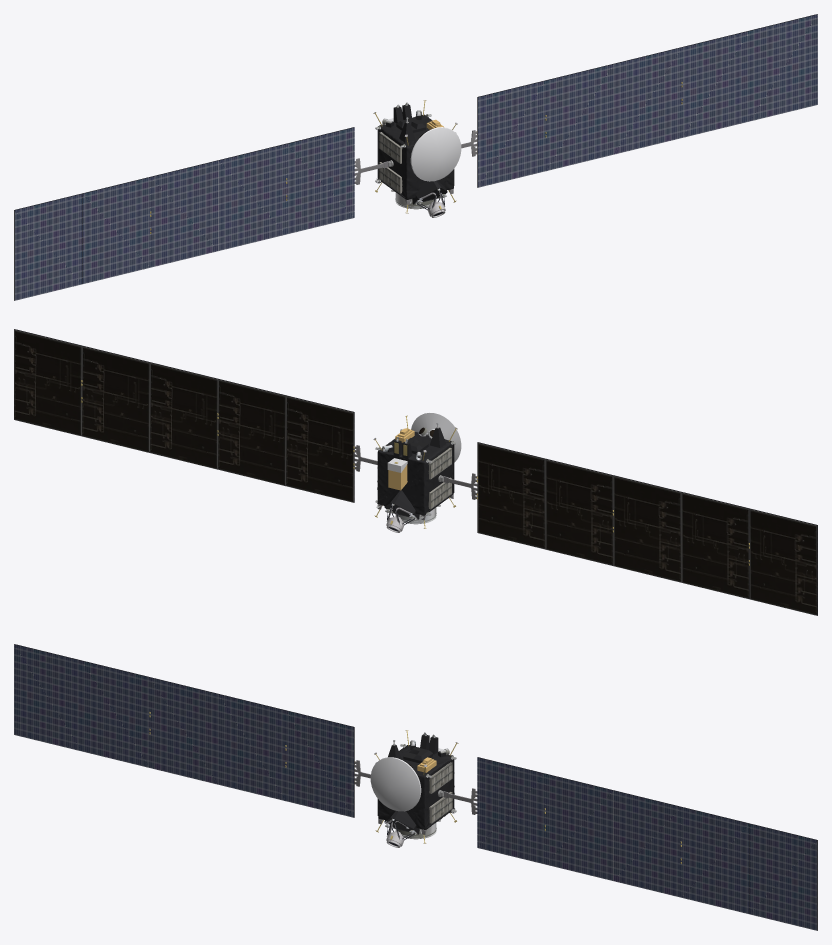
The model's file is dawn.glb.
The picture shows the model from 3 angles, top to bottom: view 1: azimuth 30°, elevation 25°; view 2: azimuth 150°, elevation 25°; view 3: azimuth 330°, elevation 25°; orthographic projection.
Visible parts, largest first — view 1: tex_01.002, tex_01, black_krinkle, foil_silver; view 2: tex_01, black_krinkle, foil_silver, foil_gold; view 3: tex_01.002, tex_01, black_krinkle, foil_silver.
Boxes of the visible parts, x1=… form: tex_01.002: x1=14, y1=14, x2=817, y2=300; tex_01: x1=14, y1=14, x2=817, y2=300; black_krinkle: x1=377, y1=104, x2=454, y2=204; foil_silver: x1=388, y1=118, x2=461, y2=208; tex_01: x1=14, y1=329, x2=817, y2=615; black_krinkle: x1=377, y1=427, x2=454, y2=519; foil_silver: x1=387, y1=413, x2=461, y2=523; foil_gold: x1=388, y1=428, x2=414, y2=490; tex_01.002: x1=14, y1=644, x2=817, y2=930; tex_01: x1=14, y1=644, x2=817, y2=930; black_krinkle: x1=377, y1=734, x2=454, y2=834; foil_silver: x1=370, y1=748, x2=443, y2=838.
Size of the model in its own units: 19.7 by 2.2 by 2.21.
6 materials, 2 textured.
